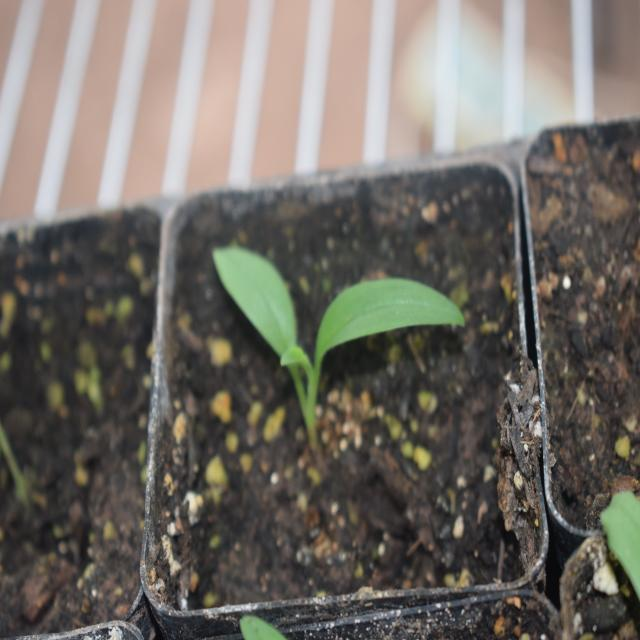Common Dayflower: (222, 233, 446, 432)
